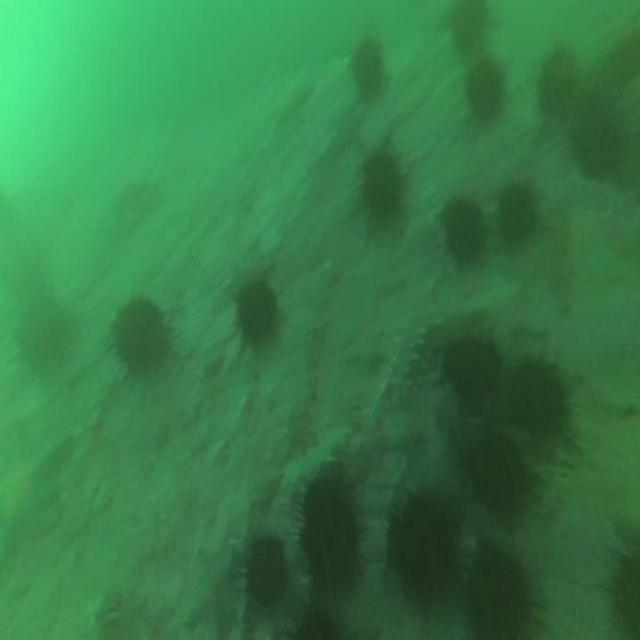echinus: (389, 498, 457, 602), (302, 479, 361, 577), (466, 552, 530, 638), (469, 436, 532, 512), (509, 357, 567, 438), (111, 297, 170, 375), (570, 84, 618, 174), (14, 296, 67, 368), (443, 338, 497, 406), (359, 153, 405, 226), (245, 539, 289, 604), (235, 278, 278, 343), (442, 198, 485, 262), (537, 47, 576, 117), (467, 54, 505, 117), (497, 179, 535, 240), (451, 0, 489, 57), (351, 41, 384, 95), (296, 607, 339, 640)
holothurian: (372, 300, 436, 411), (282, 425, 348, 495)
